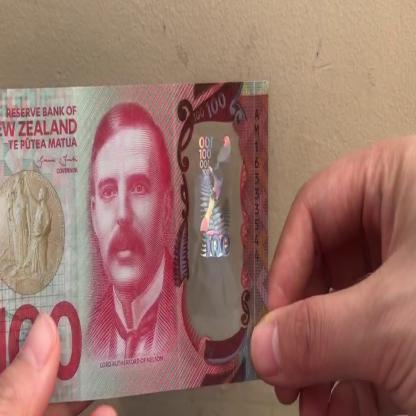100F: (192, 127, 237, 296)
